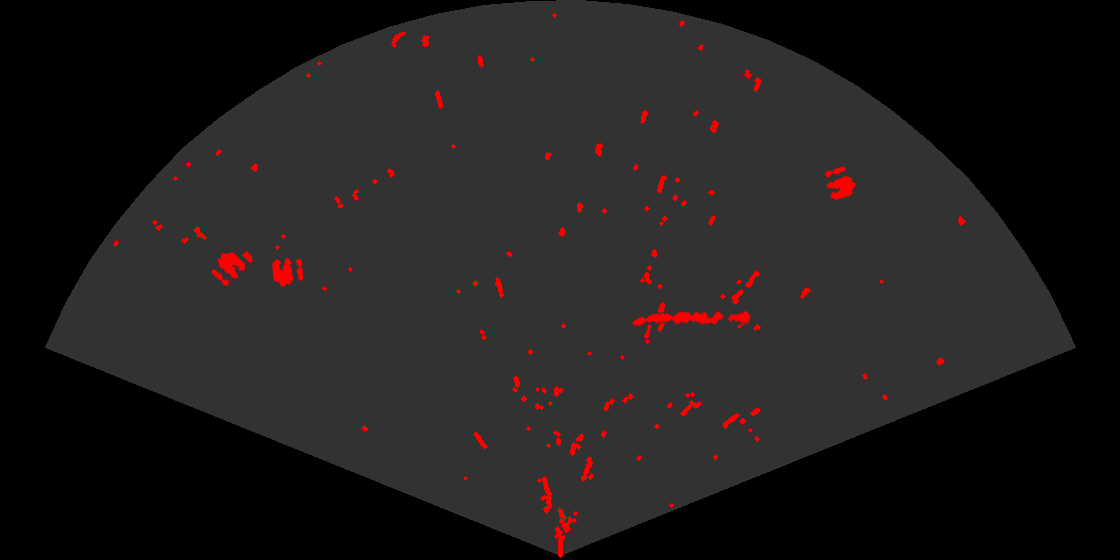ball: (210, 251, 247, 288), (823, 165, 857, 202), (271, 256, 305, 288)
chain: (631, 309, 752, 328)
